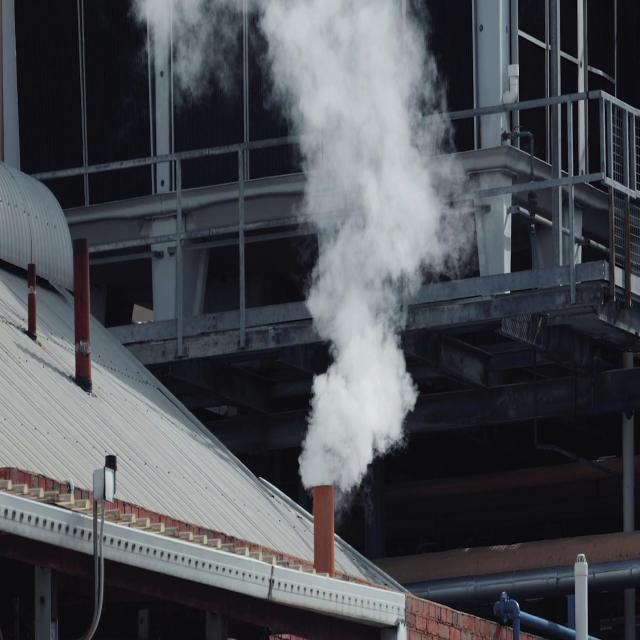Smoke: (228, 0, 457, 492)
